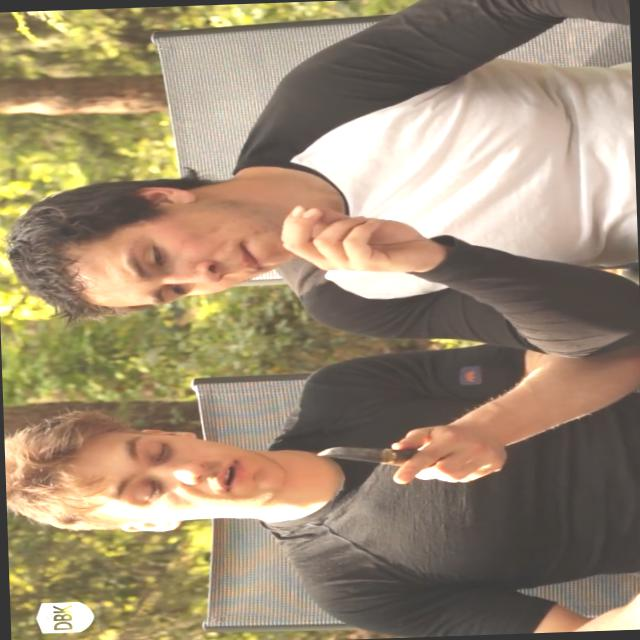knife: (300, 426, 486, 492)
